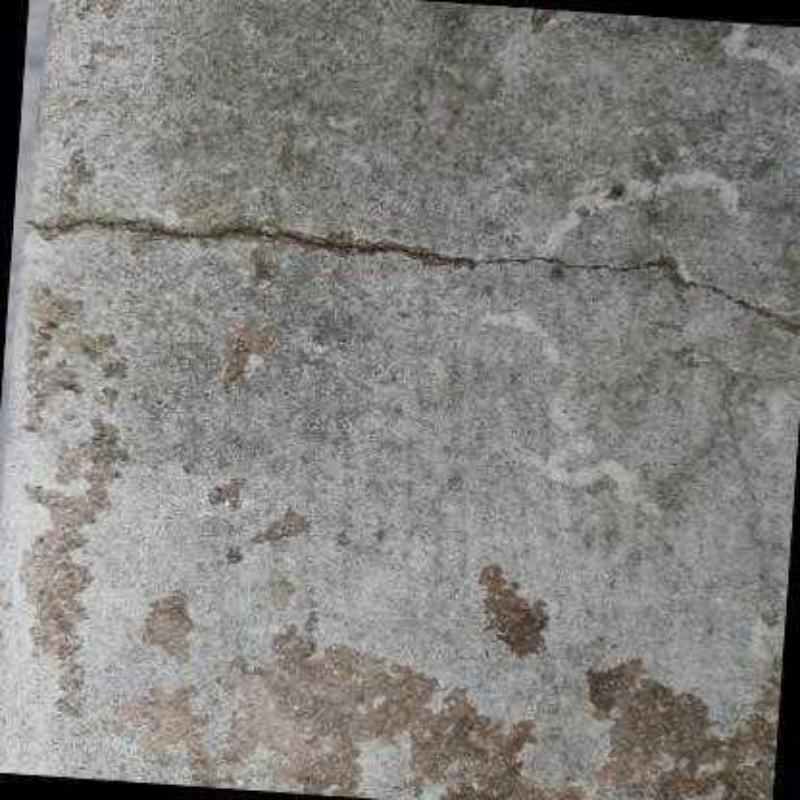crack: (39, 215, 800, 338)
